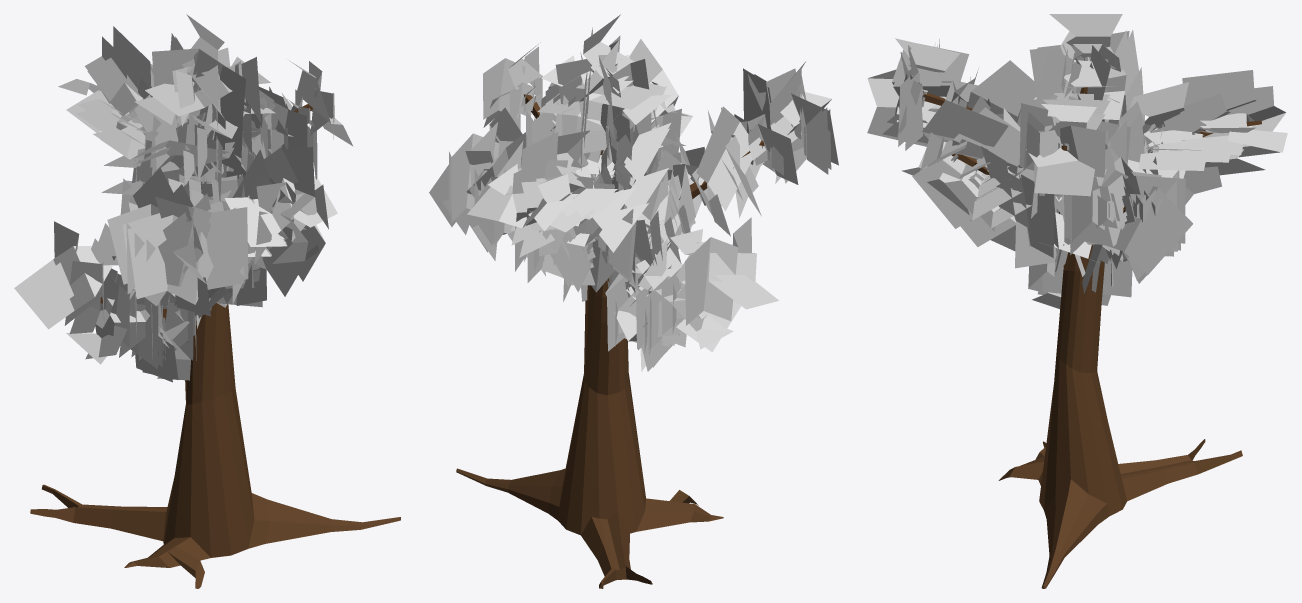
File: Tree_single_v1.fbx
The picture shows the model from 3 angles, left to right: view 1: azimuth 30°, elevation 25°; view 2: azimuth 150°, elevation 25°; view 3: azimuth 270°, elevation 25°; orthographic projection. The views are drawn at different scales.
Visible parts, largest first — view 1: Trunk; view 2: Trunk; view 3: Trunk.
Part boxes in pixels (x1,y1,x2,y2): Trunk: (14,14,400,588); Trunk: (429,14,838,588); Trunk: (867,14,1287,588).
Size of the model in its own units: 635 by 918 by 705.
